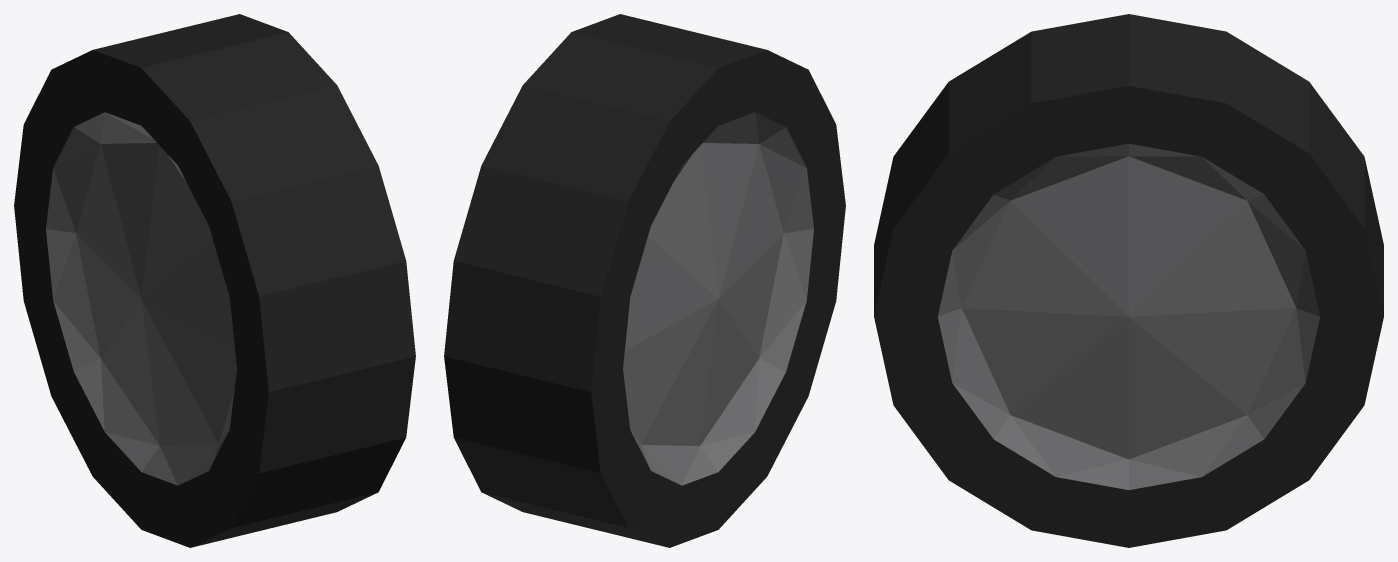
The model's file is wheel_0.glb.
3 views of the same model, side by side, from view 1: azimuth 30°, elevation 25°; view 2: azimuth 150°, elevation 25°; view 3: azimuth 270°, elevation 25° (orthographic).
Parts seen in each view (by area): view 1: vehicles/wheel_0; view 2: vehicles/wheel_0; view 3: vehicles/wheel_0.
Part boxes in pixels (bbox=[...]): vehicles/wheel_0: bbox=[14, 14, 415, 547]; vehicles/wheel_0: bbox=[444, 14, 845, 547]; vehicles/wheel_0: bbox=[874, 14, 1383, 547].
Bounding box in the file's own units: 0.25 × 0.75 × 0.75.
Materials: 1 (1 with a texture image).
